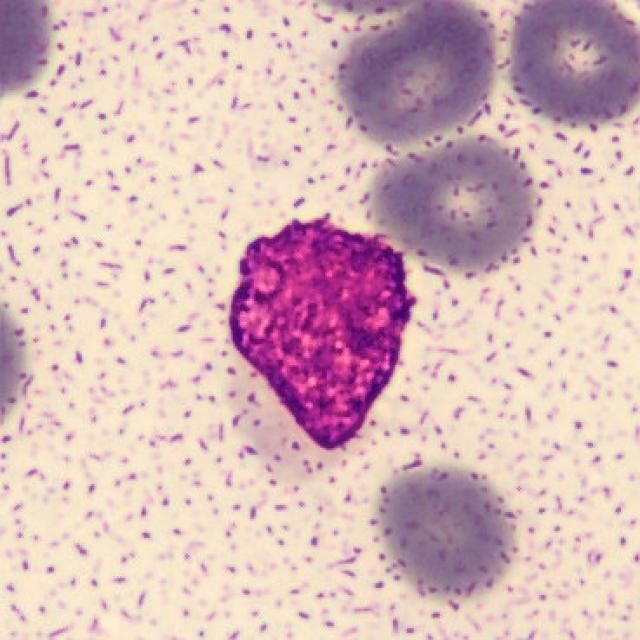Restos celulares: (226, 218, 416, 451)
